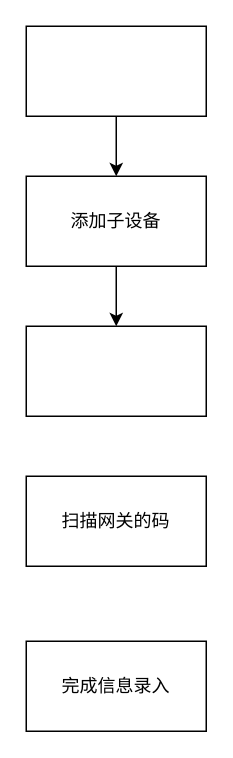
Image size: 233x758. Some labels were removed from this diagram. Here are the shapes that lost their labels. From the top down, the centre of each, then its label:
At pixel 115 70: "添加网关".
At pixel 115 370: "把网关绑定子设备".
